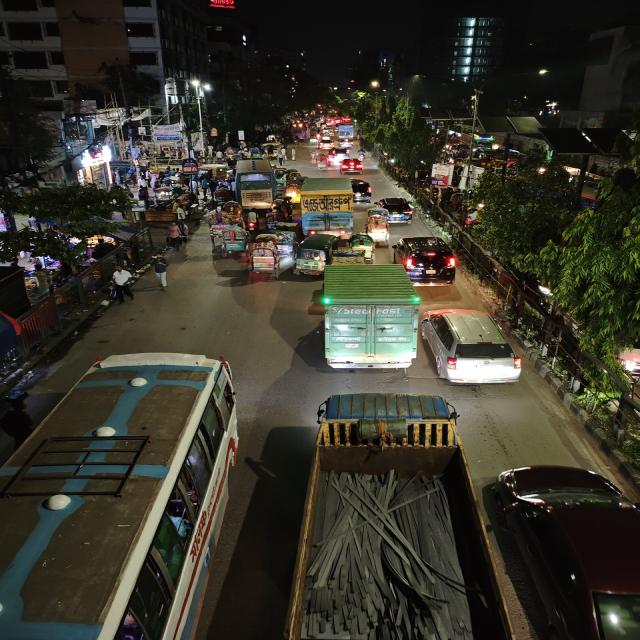bus: (2, 350, 243, 640), (235, 166, 282, 208)
car: (484, 455, 640, 640), (421, 305, 526, 392), (391, 235, 462, 285), (370, 196, 417, 224), (348, 179, 375, 201), (337, 157, 368, 173), (331, 147, 352, 159), (318, 138, 334, 149)
cng: (293, 234, 336, 276)
human_hauler: (264, 142, 282, 157)
pedestrian: (106, 267, 138, 305), (146, 254, 175, 290), (164, 221, 189, 253)
pickup_van: (294, 388, 488, 640)
rickshaw: (243, 234, 281, 280), (206, 206, 245, 238), (214, 223, 248, 259), (346, 232, 378, 262), (364, 210, 391, 244), (215, 201, 245, 226)
truck: (313, 266, 423, 376), (298, 190, 356, 237), (334, 124, 356, 142)
